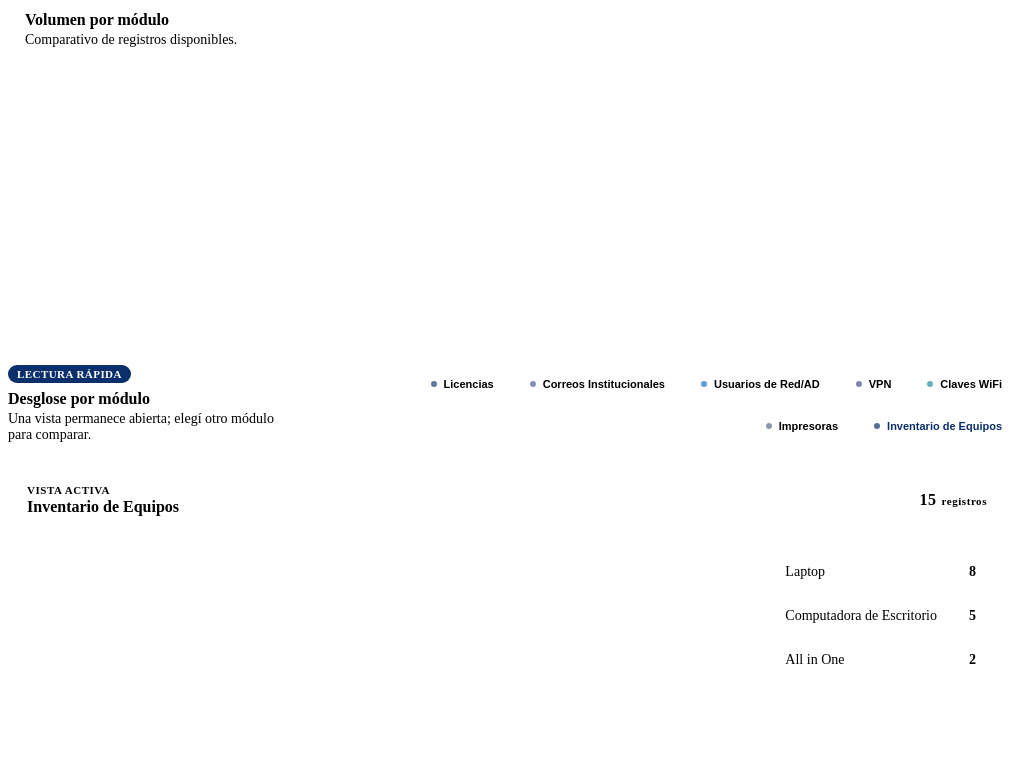
Test case: DashboardComponent › selecting "usuarios-red" derives the breakdown from counts without an extra request
(page scrolled)
Click the tab with class "modulo-pill" showing "Usuarios de Red/AD".
click(760, 384)  # box [687,367,834,401]
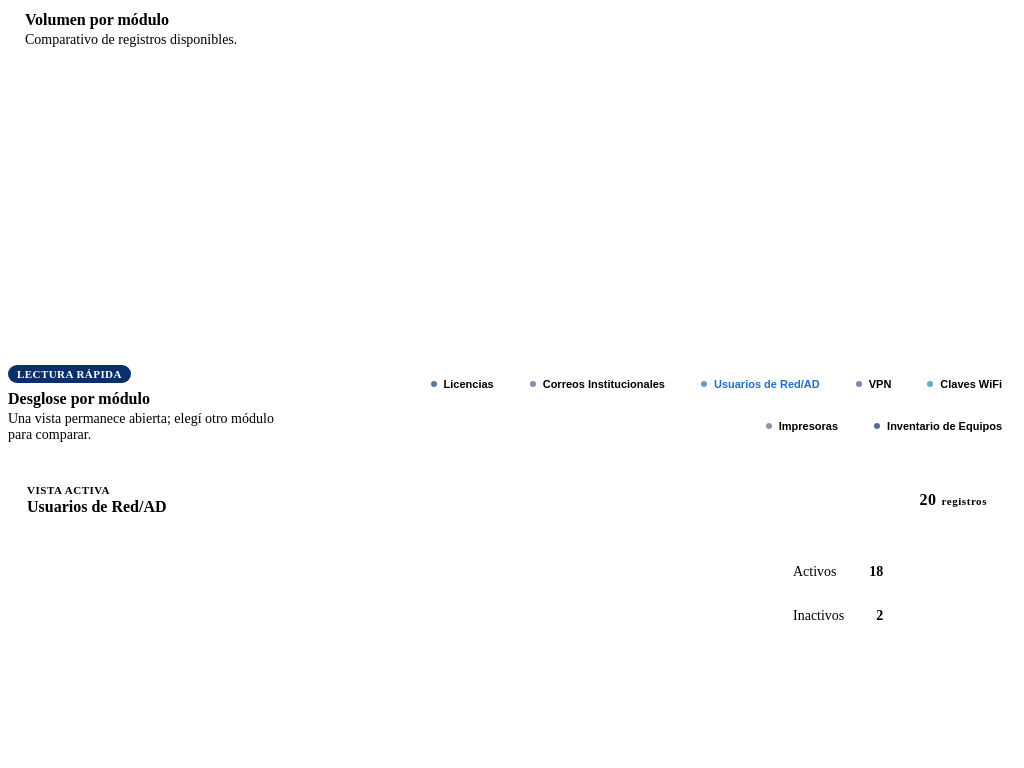
Check: the number of elements with class "modulo-breakdown-row" is 2, box [793,564,883,579]; [793,608,883,623]
Check: the element with class "modulo-breakdown-row" shows "Activos", box [793,564,837,579]
Check: the element with class "modulo-breakdown-row" shows "18", box [869,564,883,579]
